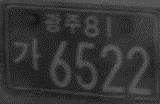1: (105, 14, 113, 39)
2: (100, 43, 127, 94), (126, 45, 153, 96)
5: (74, 40, 98, 90)
6: (48, 40, 73, 88)
8: (84, 14, 100, 38)
가: (13, 38, 42, 71)
광주_O: (43, 12, 82, 35)
